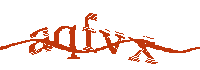a: (27, 26, 53, 55)
f: (82, 11, 99, 54)
q: (54, 24, 79, 63)
v: (98, 28, 126, 55)
x: (127, 32, 160, 66)
